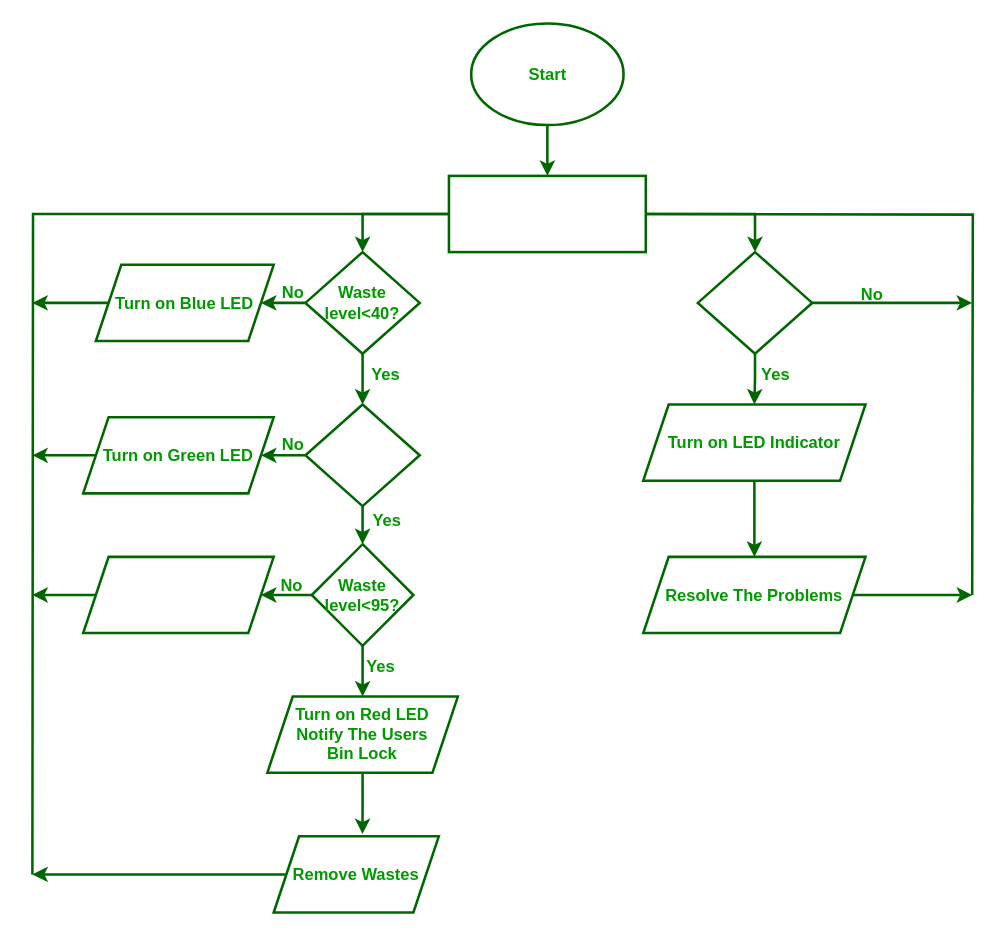
Some shapes in this 1005 by 935 pixel diagram are drawn without their labels. The shapes that lost their labels are listed below. From the top down, each one's centre as x and y in pixels, then its label:
[546,213]: Check Sensor Readings Check GPS Location
[754,302]: Is Temparature High ?
[362,455]: Waste level<70?
[177,594]: Turn on Yellow LED Notify The Users
